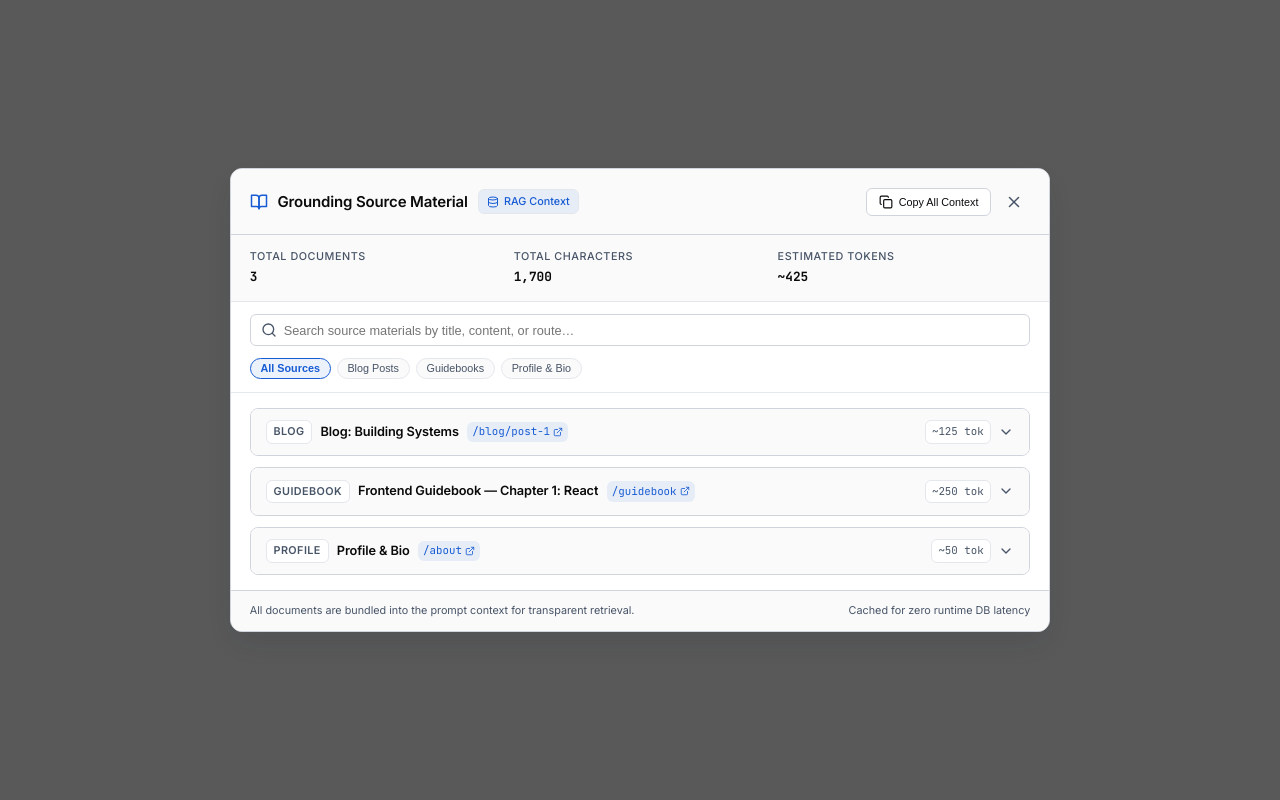
Test: ChatSourcesModal › expands source content on card click
Expected: the heading "Blog: Building Systems" is shown, top-left (320, 422), bottom-right (459, 442)
Step 1. Click the button "Blog: Building Systems" → (289, 432), box top-left (251, 409), bottom-right (1029, 455)
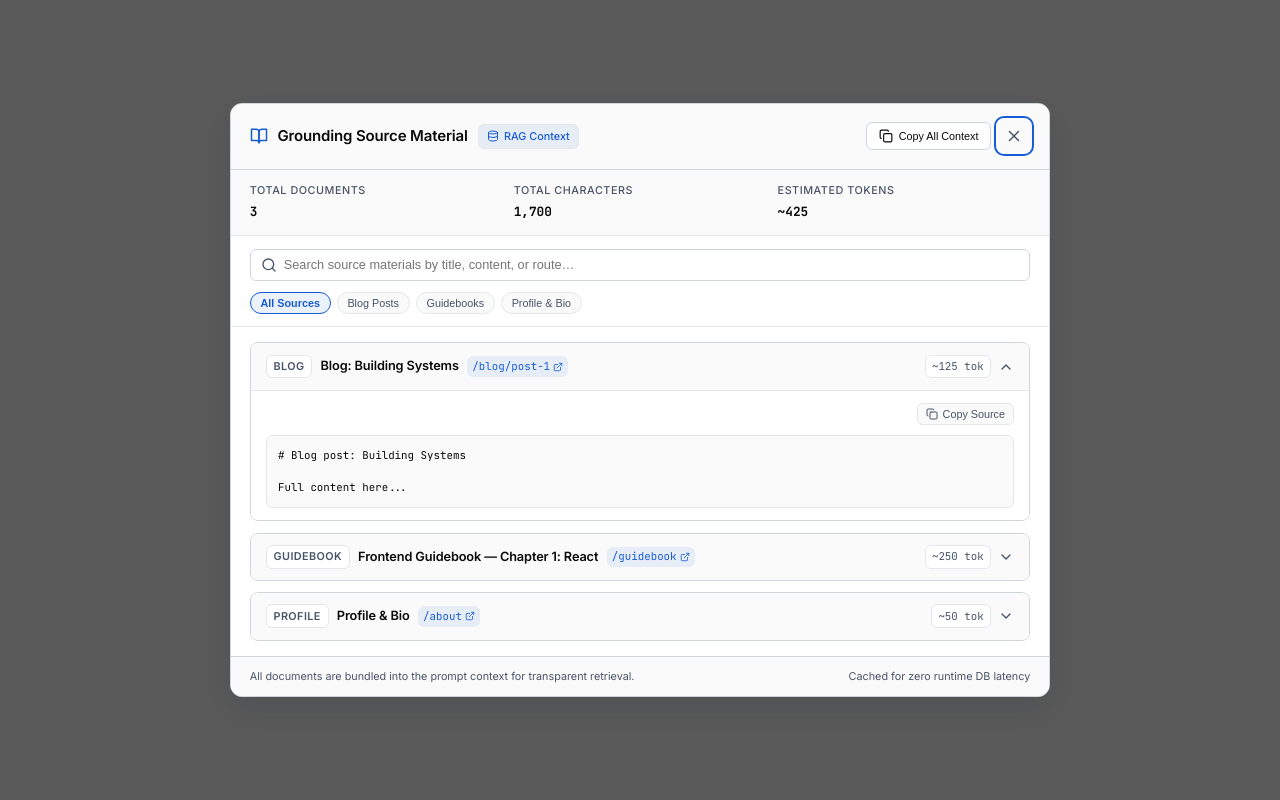
Result: the text "# Blog post: Building Systems Full content here..." is shown at top-left (266, 435), bottom-right (1014, 508)
